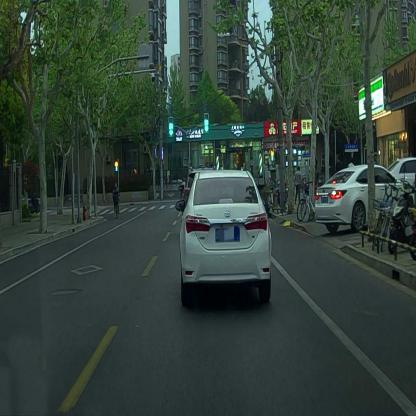Green Light: (202, 112, 210, 132), (168, 115, 174, 139)
